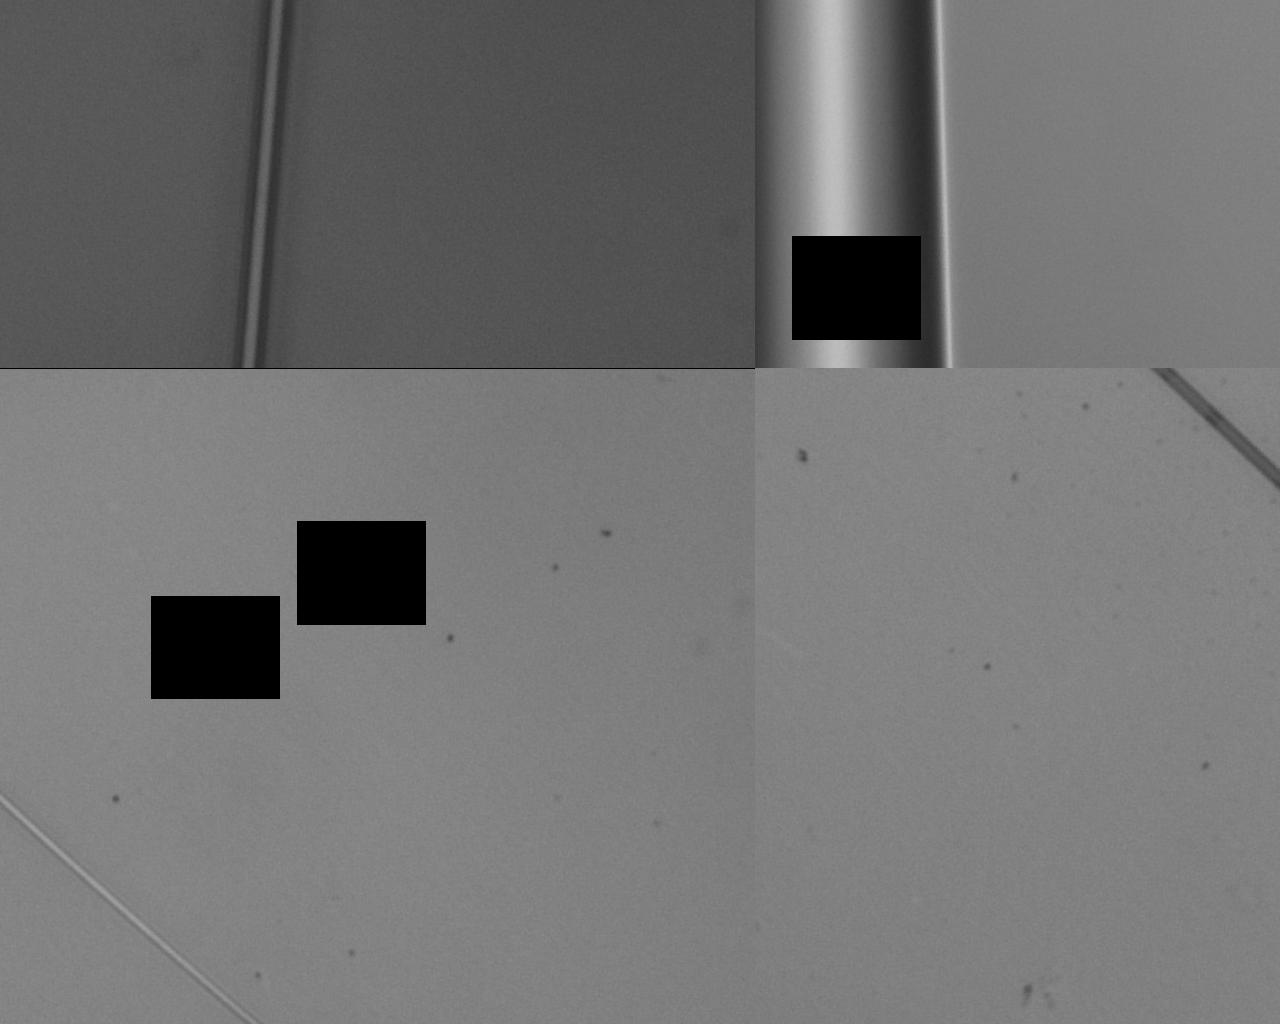fiber: (860, 0, 1173, 563), (649, 682, 1280, 750), (0, 89, 640, 141)
